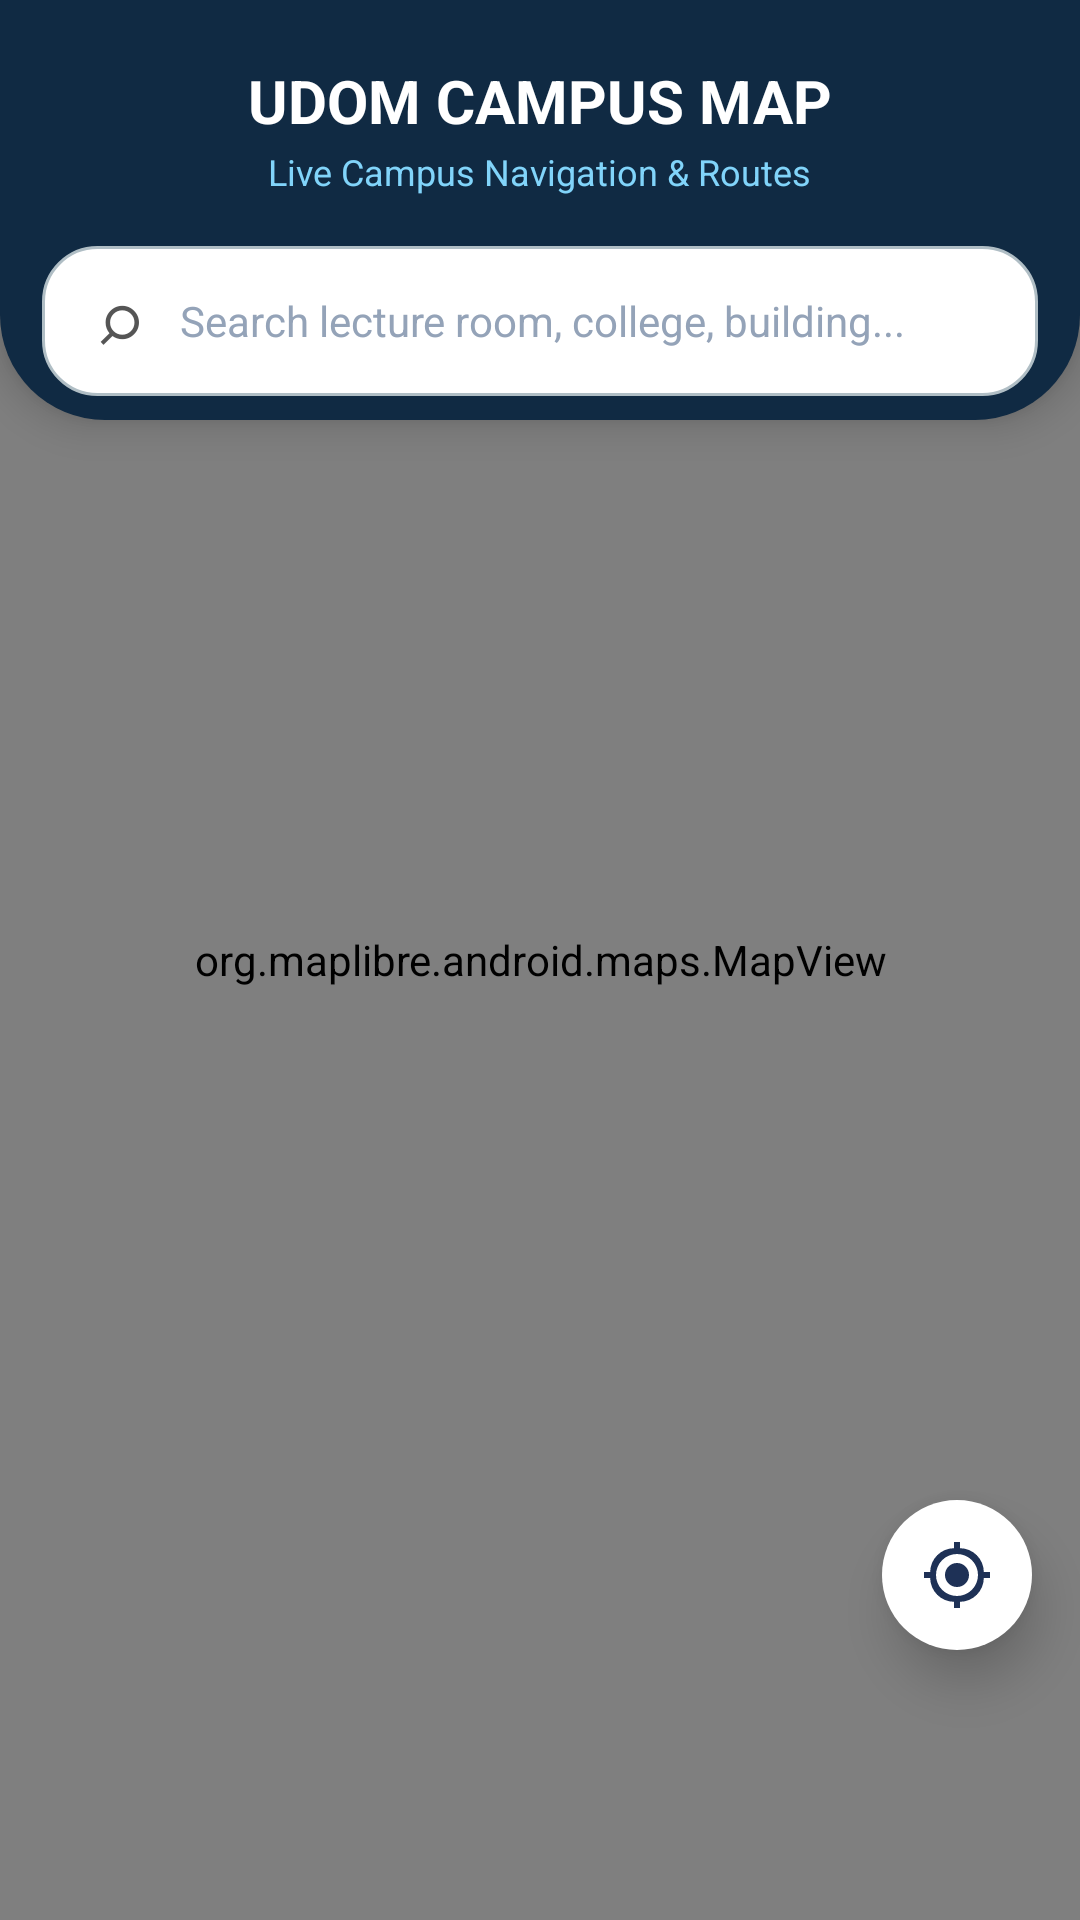

Locate icon controls on the screen. Image size 1080w x 1920h, boxes as (x1, y1, x2, y2).
Go to my location: (882, 1500, 1032, 1650)
